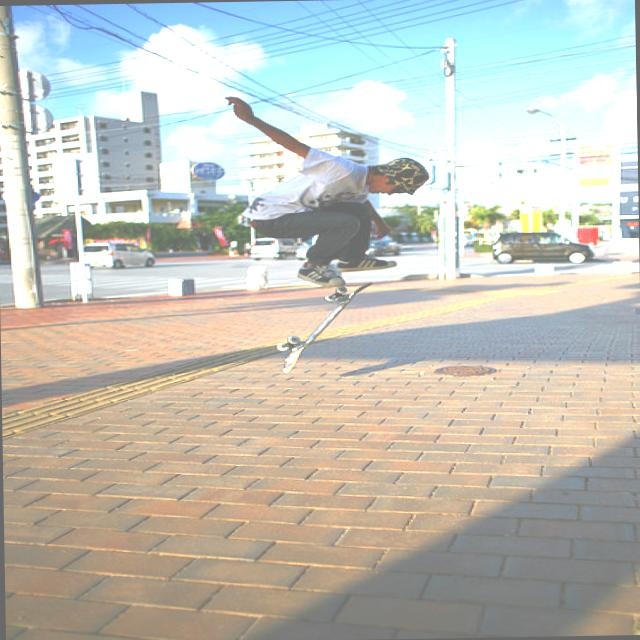Vehicle: (492, 230, 596, 264), (84, 240, 160, 270), (248, 237, 298, 261), (364, 238, 403, 257)
